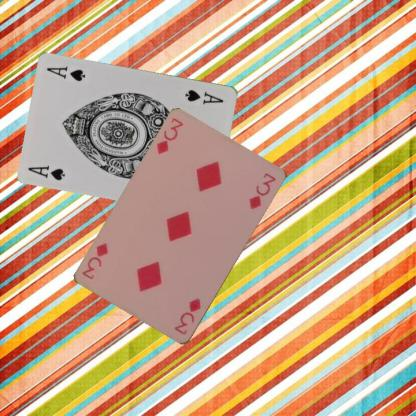3d: (154, 116, 186, 156), (172, 296, 202, 337)
As: (25, 162, 67, 181), (182, 87, 224, 105)
